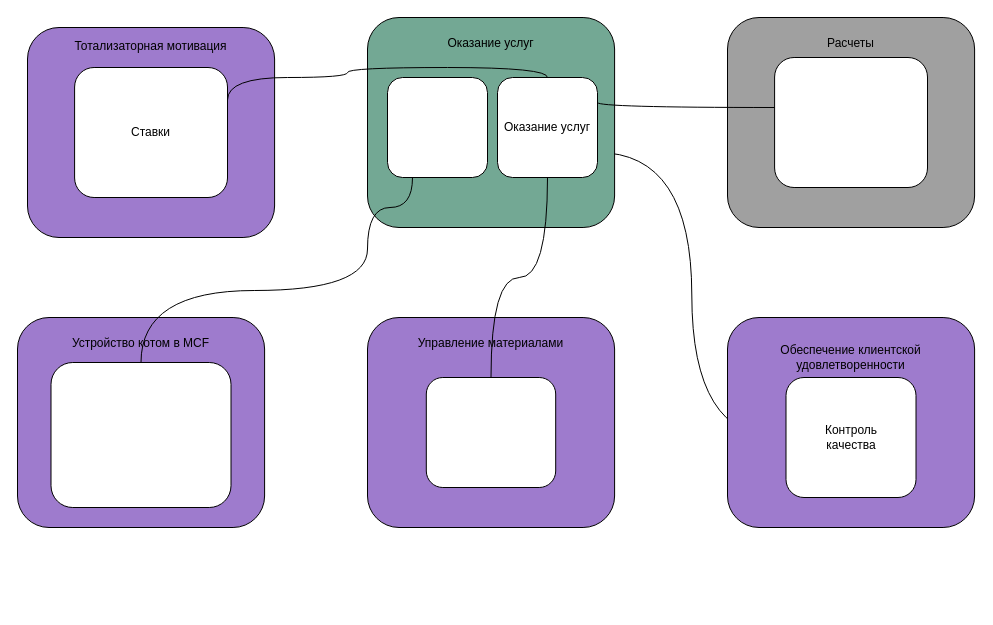
The diagram is 993 pixels wide and 625 high, and some of its shapes have lost their labels. The shapes that lost their labels are listed below. From the top down, each one's centre as x and y in pixels, then its label:
(x=437, y=127): Матчинг
(x=851, y=122): Биллинг
(x=140, y=435): Тестирование и определение характеристик
(x=490, y=432): Отдел расходников
